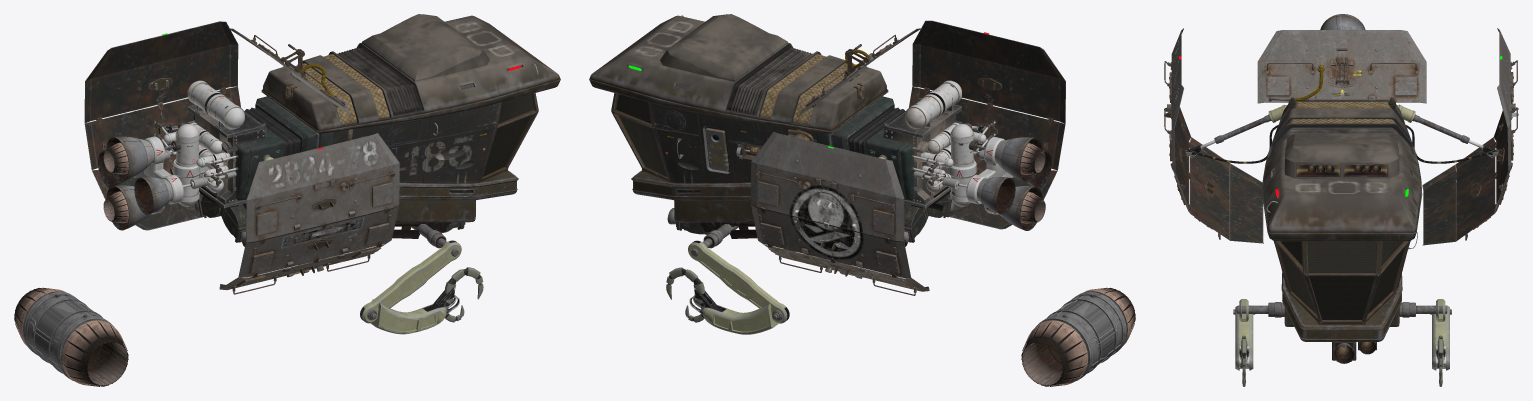
Rendered from ship_tug.glb.
3 views of the same model, side by side, from view 1: azimuth 30°, elevation 25°; view 2: azimuth 150°, elevation 25°; view 3: azimuth 270°, elevation 25° (orthographic). The views are drawn at different scales.
Visible parts, largest first — view 1: Cockpit_Living_Place, Fairing_02, Rear Reactors, Fairing_01, Engine For Cargo, Main_Rotation, Fairing_Top, Small_Reactor_Left; view 2: Cockpit_Living_Place, Fairing_01, Rear Reactors, Fairing_02, Engine For Cargo, Main_Rotation, Small_Reactor_Left, Fairing_Top; view 3: Cockpit_Living_Place, Fairing_Top, Fairing_01, Fairing_02, Main_Rotation, Rear Reactors, Cable_Fairing_01.
Boxes of the visible parts, bbox=[...] form: Cockpit_Living_Place: bbox=[162, 14, 560, 222]; Fairing_02: bbox=[219, 133, 399, 294]; Rear Reactors: bbox=[98, 80, 451, 246]; Fairing_01: bbox=[84, 21, 273, 230]; Engine For Cargo: bbox=[14, 142, 128, 386]; Main_Rotation: bbox=[165, 125, 483, 334]; Fairing_Top: bbox=[228, 28, 350, 115]; Small_Reactor_Left: bbox=[198, 195, 465, 242]; Cockpit_Living_Place: bbox=[589, 14, 989, 222]; Fairing_01: bbox=[751, 123, 985, 295]; Rear Reactors: bbox=[667, 80, 1051, 246]; Fairing_02: bbox=[909, 20, 1065, 229]; Engine For Cargo: bbox=[1020, 142, 1135, 386]; Main_Rotation: bbox=[666, 125, 984, 334]; Small_Reactor_Left: bbox=[676, 195, 951, 242]; Fairing_Top: bbox=[799, 28, 921, 115]; Cockpit_Living_Place: bbox=[1179, 56, 1502, 341]; Fairing_Top: bbox=[1257, 30, 1426, 108]; Fairing_01: bbox=[1185, 28, 1518, 245]; Fairing_02: bbox=[1164, 28, 1263, 243]; Main_Rotation: bbox=[1186, 145, 1498, 386]; Rear Reactors: bbox=[1307, 14, 1380, 363]; Cable_Fairing_01: bbox=[1191, 125, 1492, 163].
Size of the model in its own units: 8.76 by 4.71 by 5.38.
38 materials, 32 textured.
